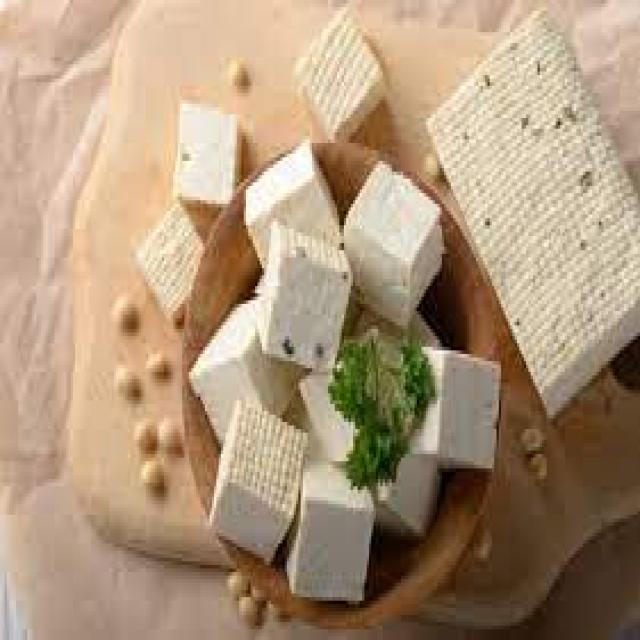tofu: (403, 43, 640, 413), (191, 211, 386, 597), (164, 105, 244, 224)
